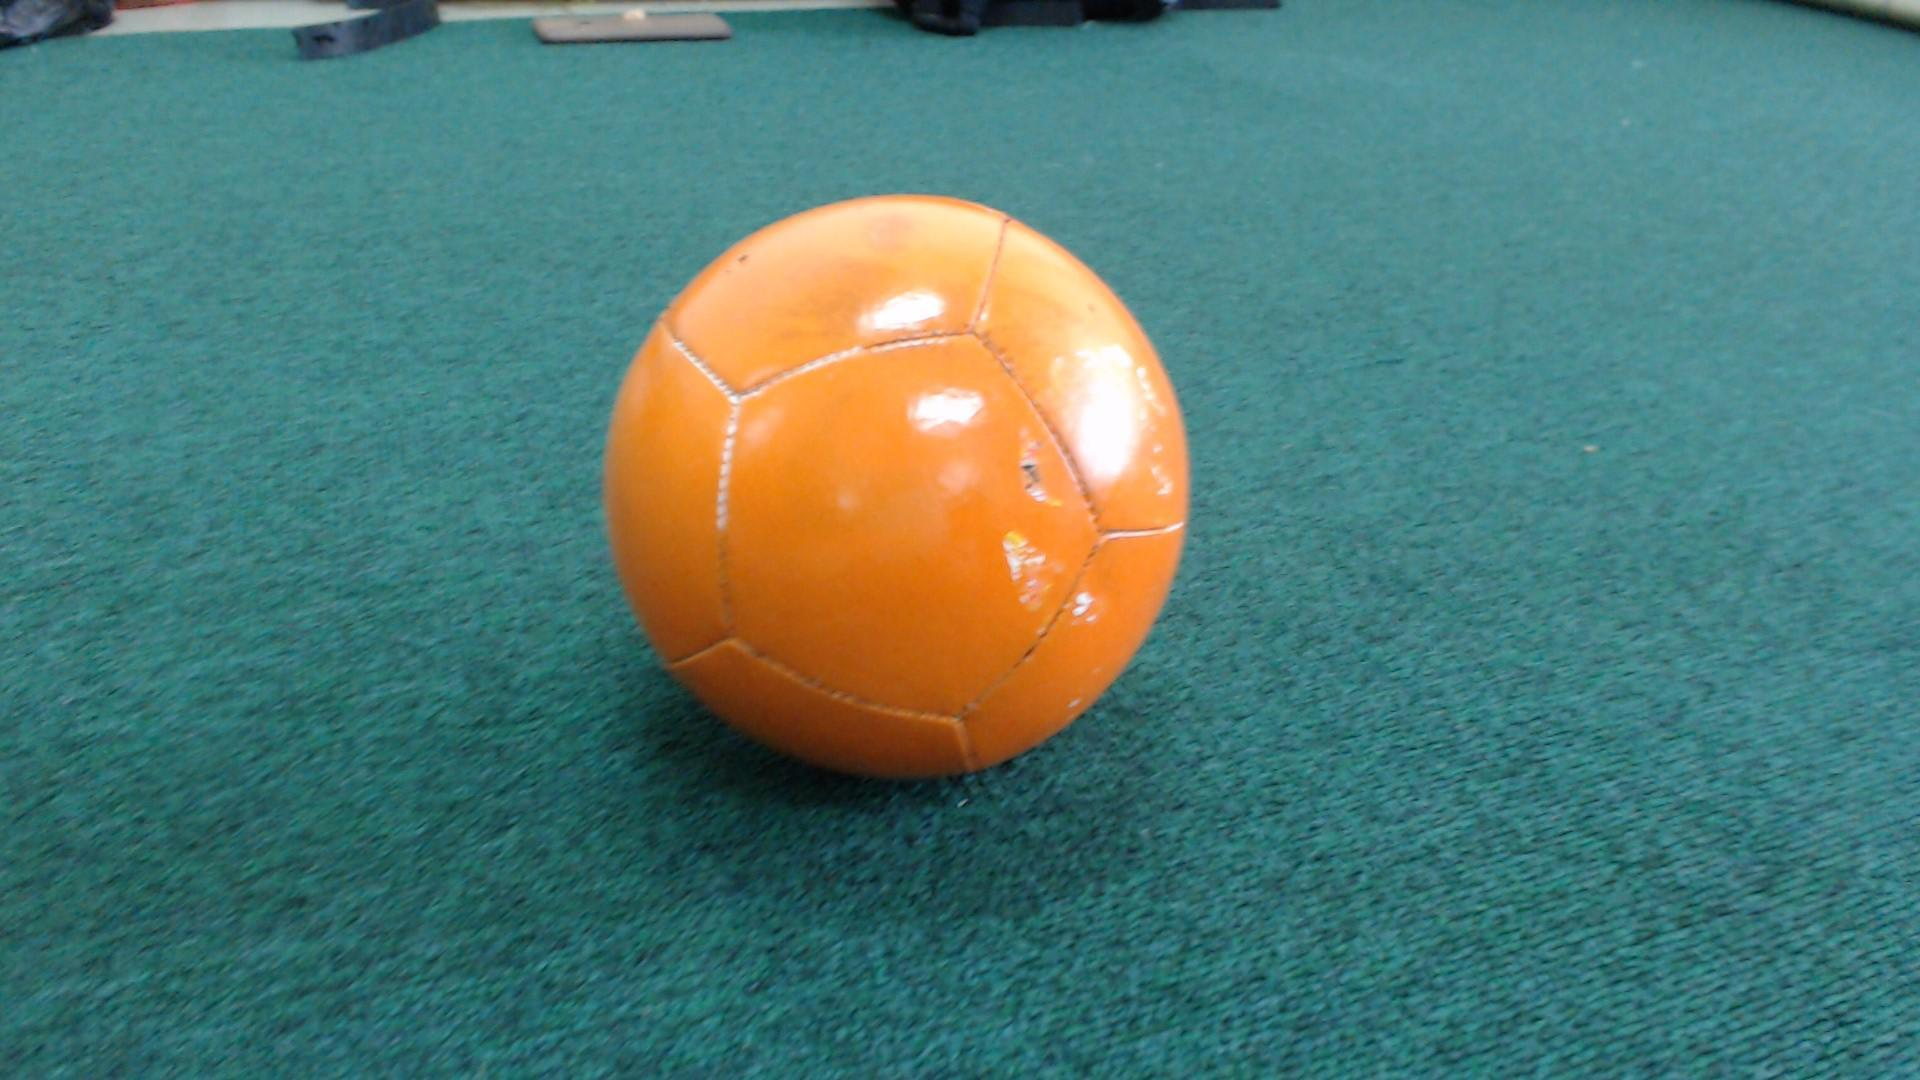bola: (588, 175, 1218, 783)
